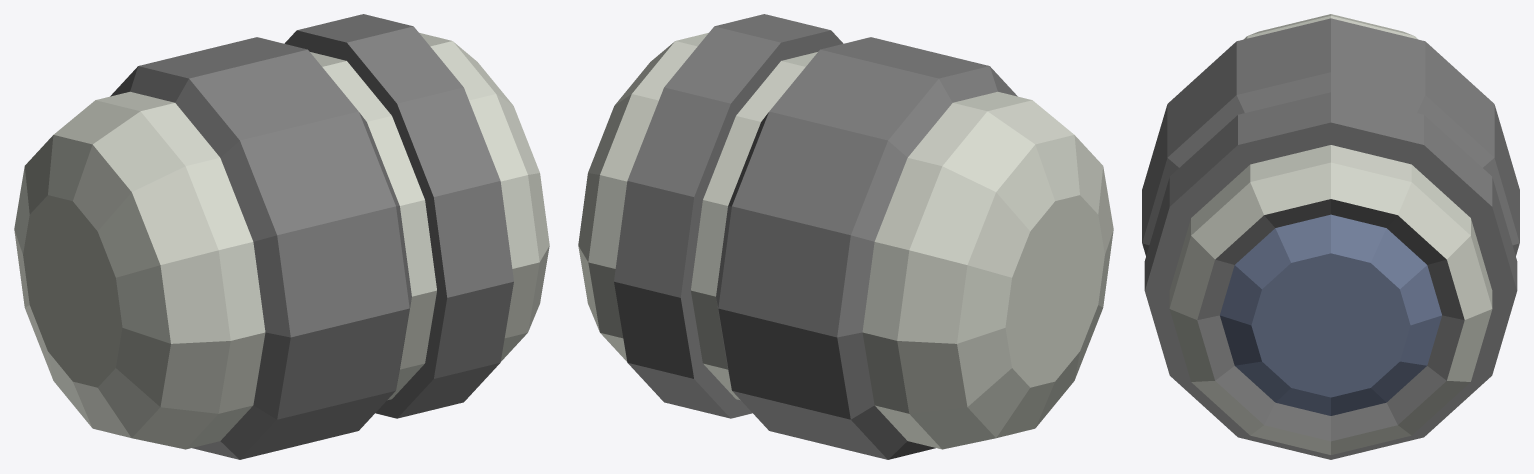
File: satellite_crashed_2.fbx
The picture shows the model from 3 angles, left to right: view 1: azimuth 30°, elevation 25°; view 2: azimuth 150°, elevation 25°; view 3: azimuth 270°, elevation 25°; orthographic projection. The views are drawn at different scales.
Visible parts, largest first — view 1: satellite_crashed_2; view 2: satellite_crashed_2; view 3: satellite_crashed_2.
Boxes of the visible parts, bbox=[...] form: satellite_crashed_2: bbox=[14, 14, 549, 459]; satellite_crashed_2: bbox=[578, 14, 1113, 459]; satellite_crashed_2: bbox=[1142, 14, 1519, 459].
Bounding box in the file's own units: 280 × 237 × 237.
